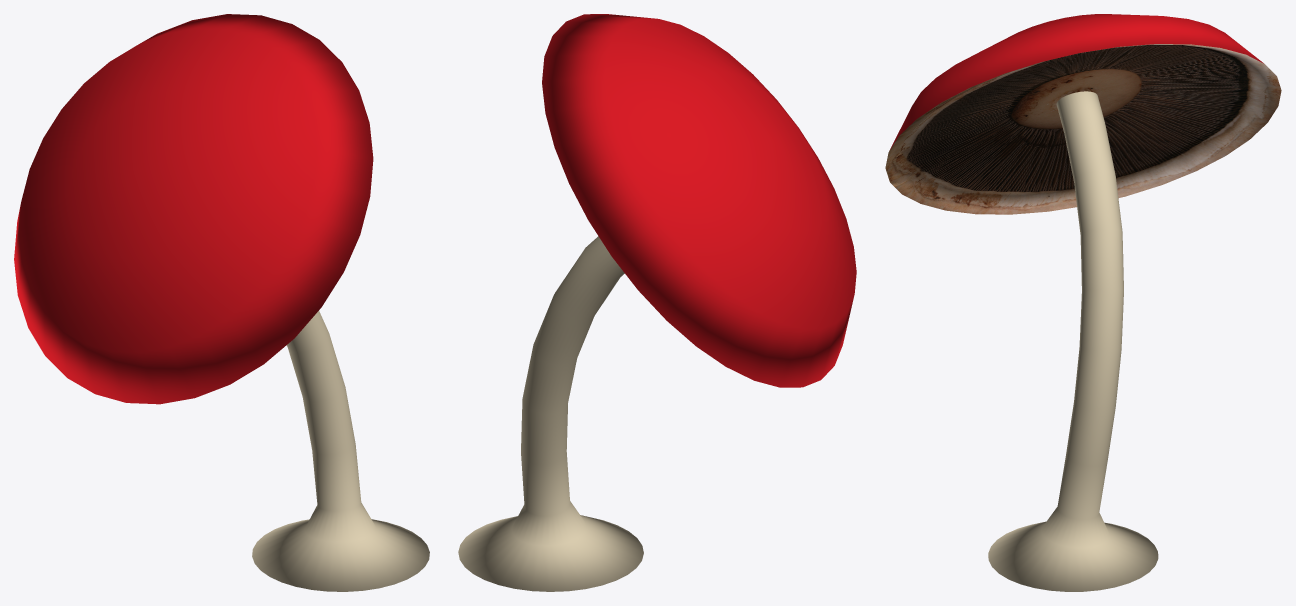
Rendered from champi44.fbx.
3 renders of one model, left to right at view 1: azimuth 30°, elevation 25°; view 2: azimuth 150°, elevation 25°; view 3: azimuth 270°, elevation 25°, orthographic. The views are drawn at different scales.
Visible parts, largest first — view 1: Cylinder_001; view 2: Cylinder_001; view 3: Cylinder_001.
Part boxes in pixels (box(x1,y1,x2,y2)): Cylinder_001: box(14, 14, 429, 591); Cylinder_001: box(458, 14, 856, 591); Cylinder_001: box(885, 14, 1281, 591).
Size of the model in its own units: 91.99 by 130 by 92.84.
